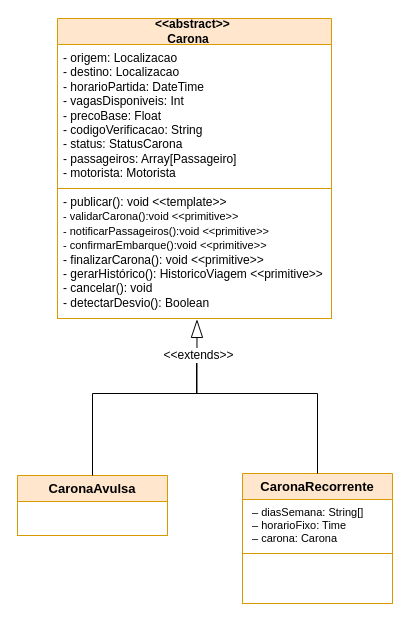
The diagram is 410 pixels wide and 624 high, and some of its shapes have lost their labels. The shapes that lost their labels are listed below. From the top down, each one's centre as x and y in pixels, then its label:
pixel 92 518: - publicar(): void
pixel 317 578: - publicar(): void - pausarRecorrencia(): void
